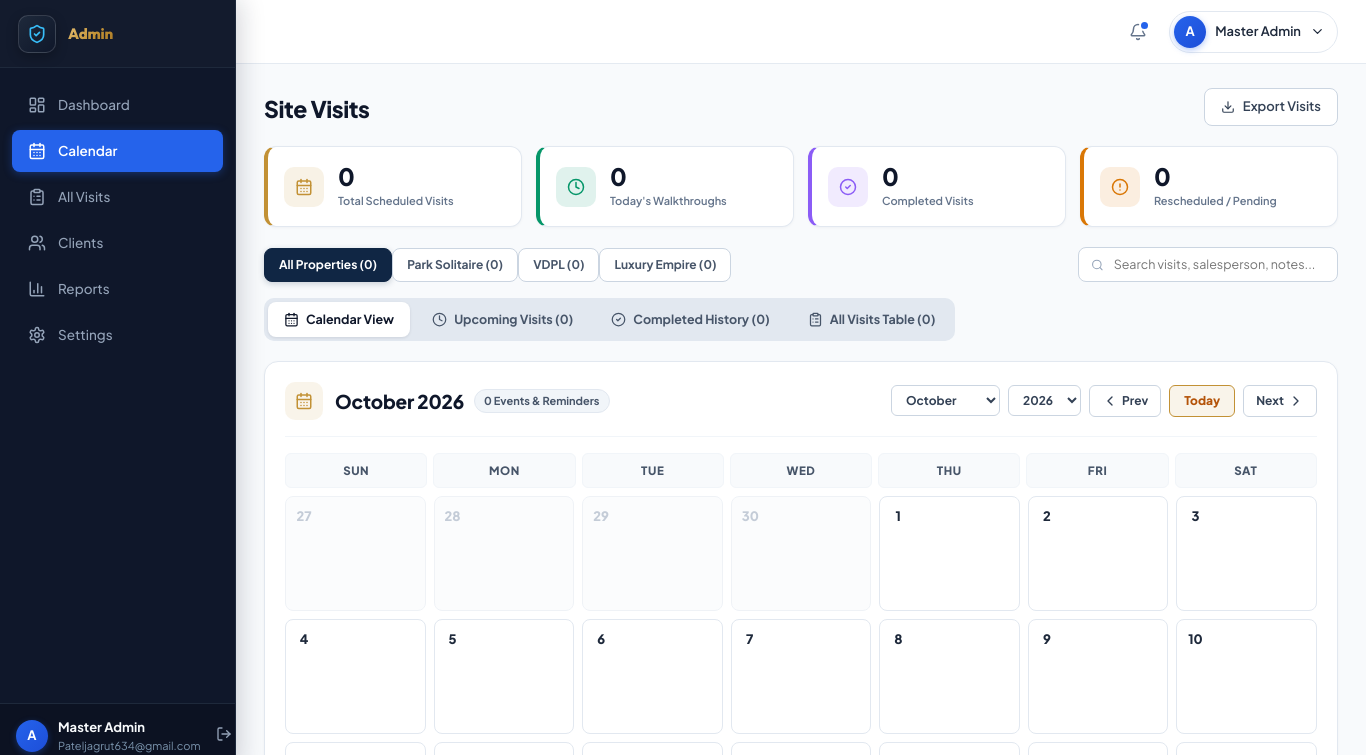
Test: Park Solitaire Client Visit App › Production Clean Slate & Empty State Verification › renders clean empty state in Site Visits upcoming tab when no visits exist
The image size is (1366, 755).
Click the button "Upcoming Visits (0)": (503, 320) [416,302,589,337]
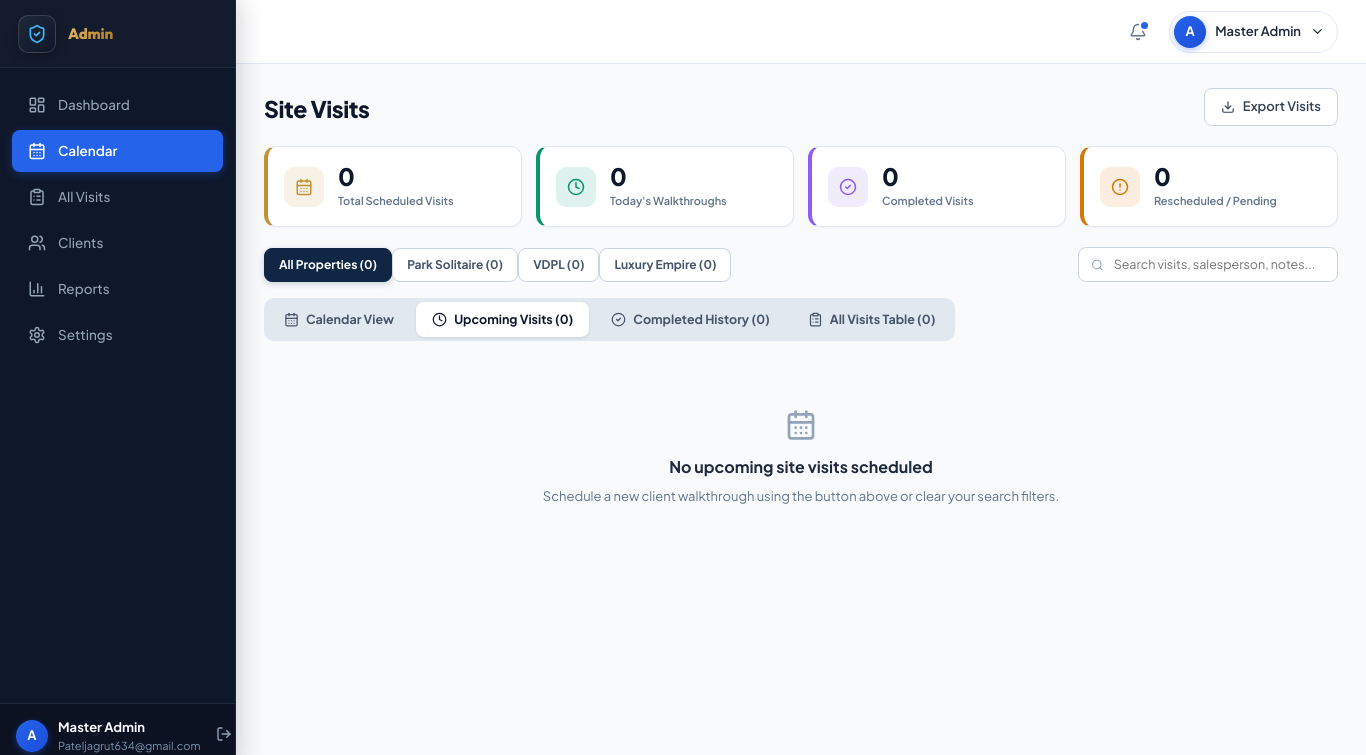
expect the heading "No upcoming site visits scheduled" is shown: met, box [669,455,933,479]
